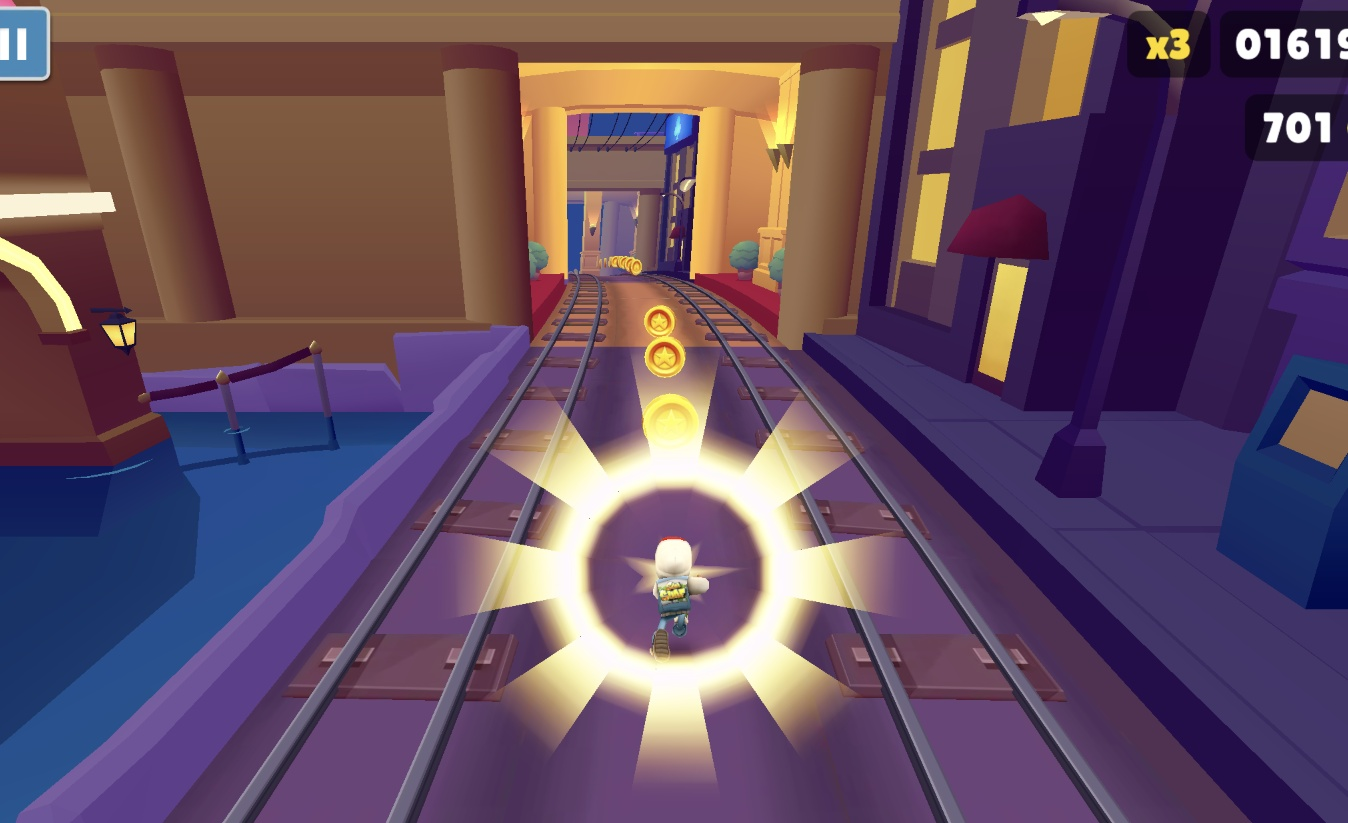pillar: (583, 187, 610, 277)
